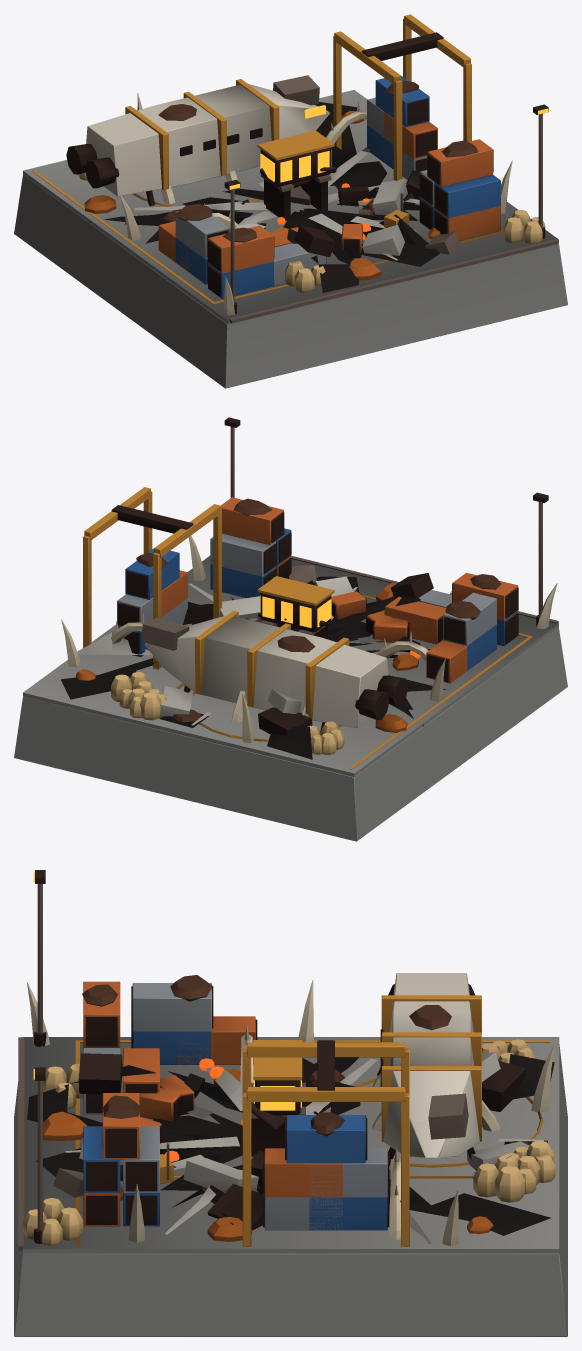
The model's file is freight-terminal-amnion.glb.
The picture shows the model from 3 angles, top to bottom: view 1: azimuth 30°, elevation 25°; view 2: azimuth 150°, elevation 25°; view 3: azimuth 270°, elevation 25°; orthographic projection. The views are drawn at different scales.
Parts seen in each view (by area): view 1: site_freight_terminal_amnion_body, site_freight_terminal_amnion_ruin, site_freight_terminal_amnion_core; view 2: site_freight_terminal_amnion_body, site_freight_terminal_amnion_ruin, site_freight_terminal_amnion_core; view 3: site_freight_terminal_amnion_body, site_freight_terminal_amnion_ruin, site_freight_terminal_amnion_core.
Part boxes in pixels (x1,y1,x2,y2): site_freight_terminal_amnion_body: (14,14,567,388); site_freight_terminal_amnion_ruin: (87,75,460,292); site_freight_terminal_amnion_core: (257,130,334,186); site_freight_terminal_amnion_body: (14,417,567,841); site_freight_terminal_amnion_ruin: (61,565,446,759); site_freight_terminal_amnion_core: (257,576,334,632); site_freight_terminal_amnion_body: (14,870,567,1336); site_freight_terminal_amnion_ruin: (27,1052,554,1243); site_freight_terminal_amnion_core: (253,1040,302,1115).
Bounding box in the file's own units: 5.9 × 3.2 × 6.3.
